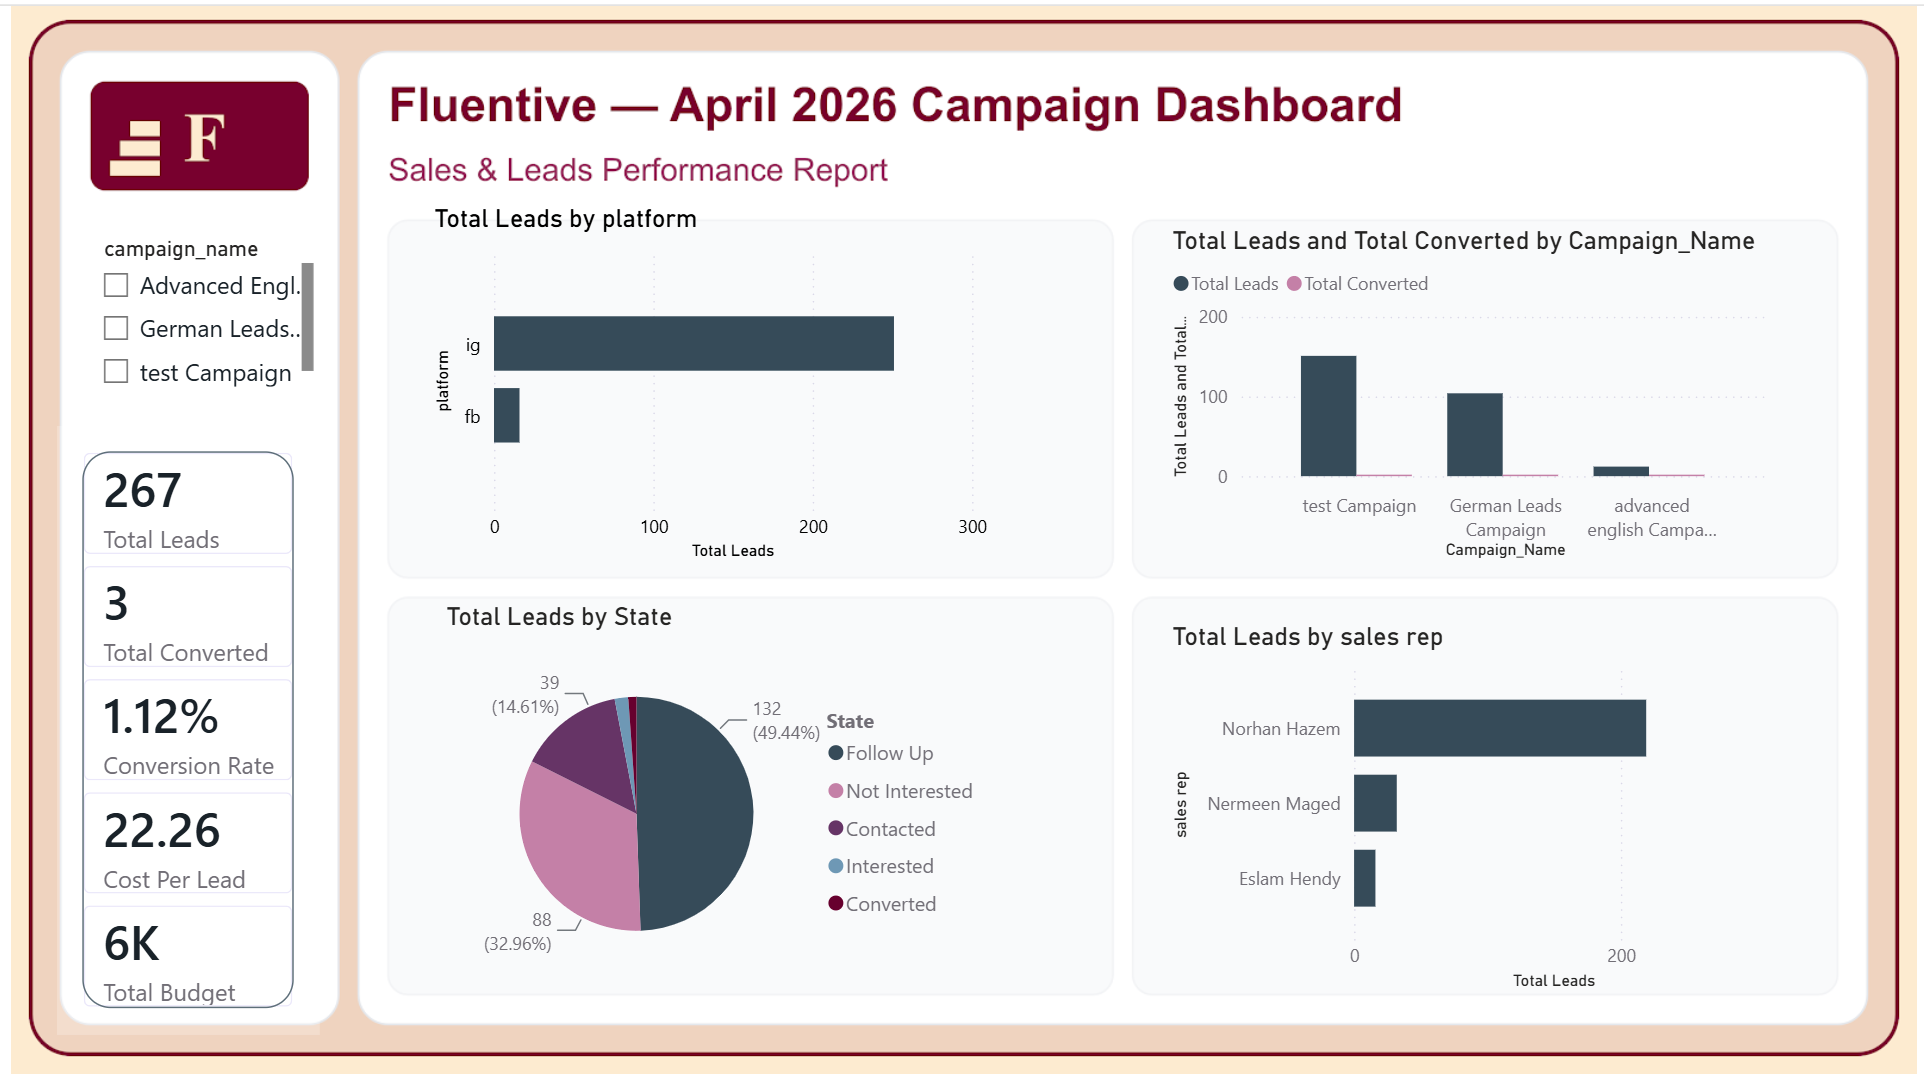

This screenshot's page, from the dashboard's own definition file:
{"tool":"powerbi","page":{"name":"Page 1","canvas":[1280,720],"ordinal":0},"visuals":[{"type":"cardVisual","fields":{"Data":["_Measures.Total Leads","_Measures.Total Converted","_Measures.Conversion Rate","_Measures.Cost Per Lead","_Measures.Total Budget"]},"box":[31.2,282.7,176.5,409.2],"z":0},{"type":"pieChart","fields":{"Category":["Leadss.State"],"Y":["_Measures.Total Leads"]},"box":[287.4,399.8,373.3,265.5],"z":1000},{"type":"barChart","fields":{"Category":["Leadss.sales rep"],"Y":["_Measures.Total Leads"]},"box":[774.7,413.9,410.8,251.5],"z":2000},{"type":"clusteredBarChart","fields":{"Category":["Leadss.platform"],"Y":["_Measures.Total Leads"]},"box":[279.6,132.8,381.1,243.6],"z":3000},{"type":"clusteredColumnChart","fields":{"Category":["Campaigns.Campaign_Name"],"Y":["_Measures.Total Leads","_Measures.Total Converted"]},"box":[774.7,148.4,410.8,228],"z":4000},{"type":"textbox","box":[0,0,732.5,103.1],"z":5000},{"type":"slicer","fields":{"Values":["Leadss.campaign_name"]},"box":[50.2,149,158.4,112.9],"z":6000}]}

Visuals, with their boxes in screenshot pixels (x1, y1, x2, y2), scaled from the page's 1280x720 canvas onto the 1924x1078 screenshot:
cardVisual - _Measures.Total Leads x _Measures.Total Converted: box(47, 423, 312, 1036)
pieChart - Leadss.State x _Measures.Total Leads: box(432, 599, 993, 996)
barChart - Leadss.sales rep x _Measures.Total Leads: box(1164, 620, 1782, 996)
clusteredBarChart - Leadss.platform x _Measures.Total Leads: box(420, 199, 993, 564)
clusteredColumnChart - Campaigns.Campaign_Name x _Measures.Total Leads: box(1164, 222, 1782, 564)
textbox: box(0, 0, 1101, 154)
slicer - Leadss.campaign_name: box(75, 223, 314, 392)
